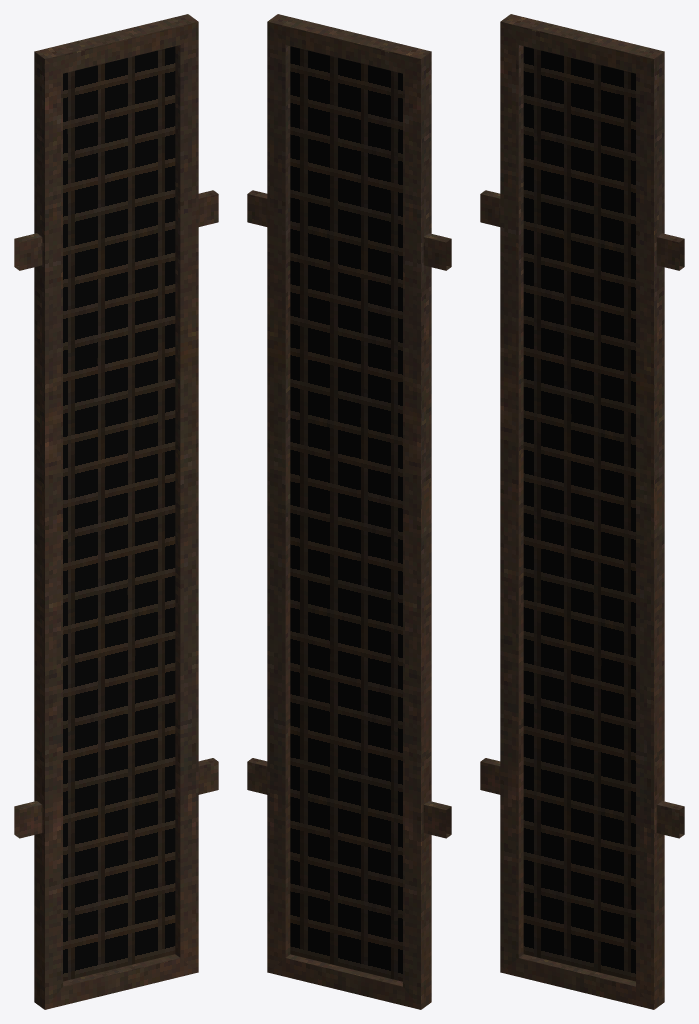
The model's file is fence_e_pillar_1.glb.
The picture shows the model from 3 angles, left to right: view 1: azimuth 30°, elevation 25°; view 2: azimuth 150°, elevation 25°; view 3: azimuth 330°, elevation 25°; orthographic projection.
Visible parts, largest first — view 1: fence_e_pillar_1; view 2: fence_e_pillar_1; view 3: fence_e_pillar_1.
Boxes of the visible parts, x1,y1,x2,y2 form: fence_e_pillar_1: [14, 14, 218, 1009]; fence_e_pillar_1: [247, 14, 451, 1009]; fence_e_pillar_1: [480, 14, 684, 1009].
Bounding box in the file's own units: 0.44 × 2.01 × 0.04.
Materials: 2 (2 with a texture image).
